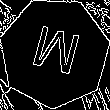M_S: (26, 22, 83, 83)
